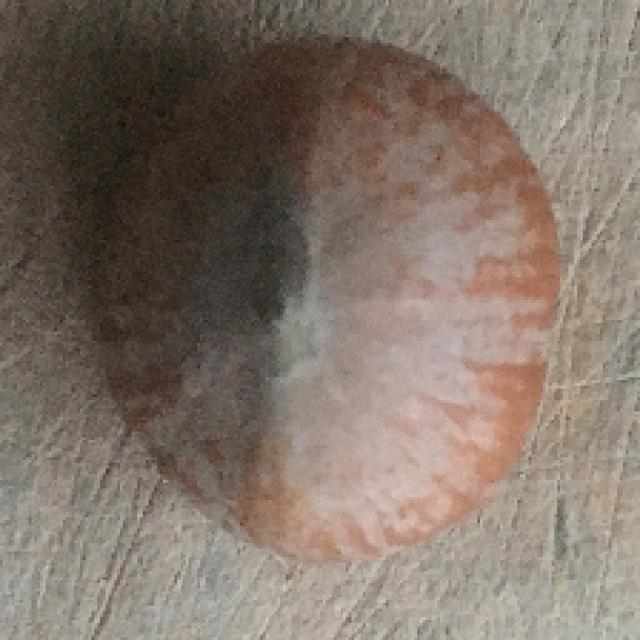qualityHazelnut: (88, 29, 565, 568)
